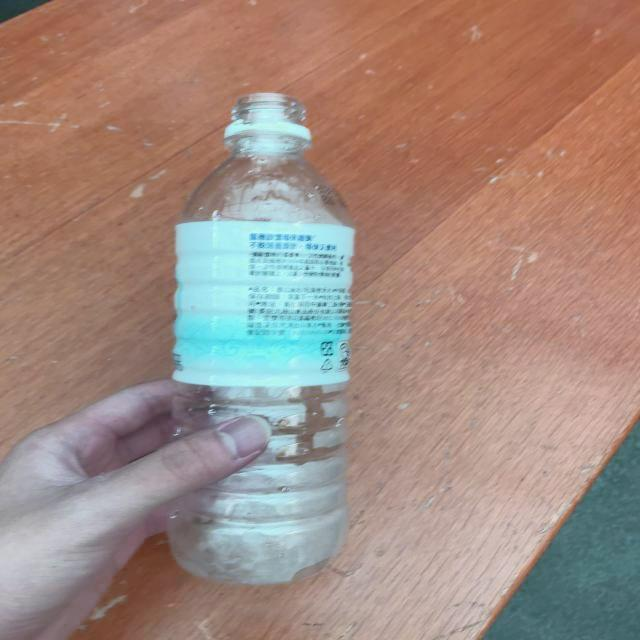bottle: (167, 93, 355, 586)
